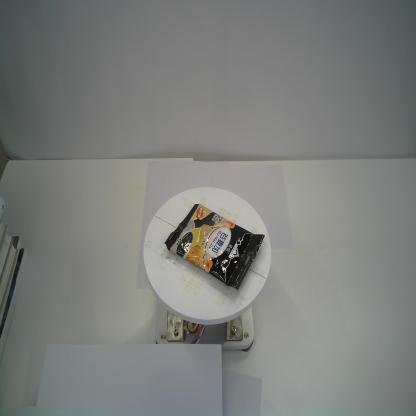Instant Drink: (163, 204, 266, 292)
